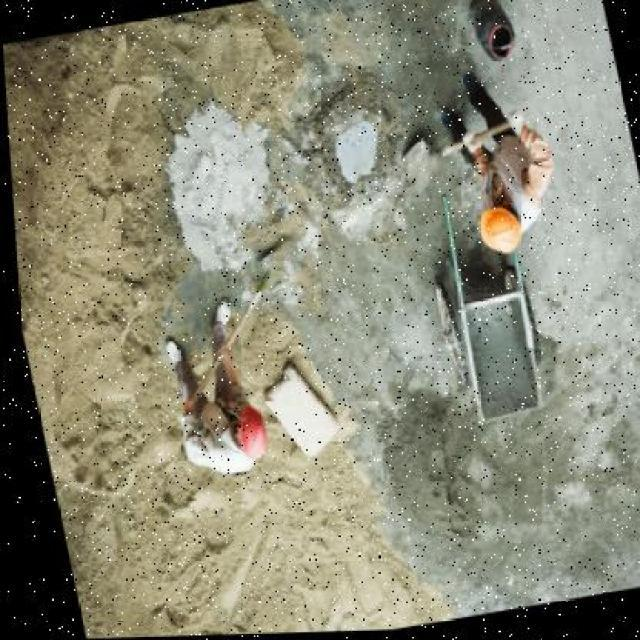helmet: (466, 191, 525, 263), (222, 400, 268, 467)
